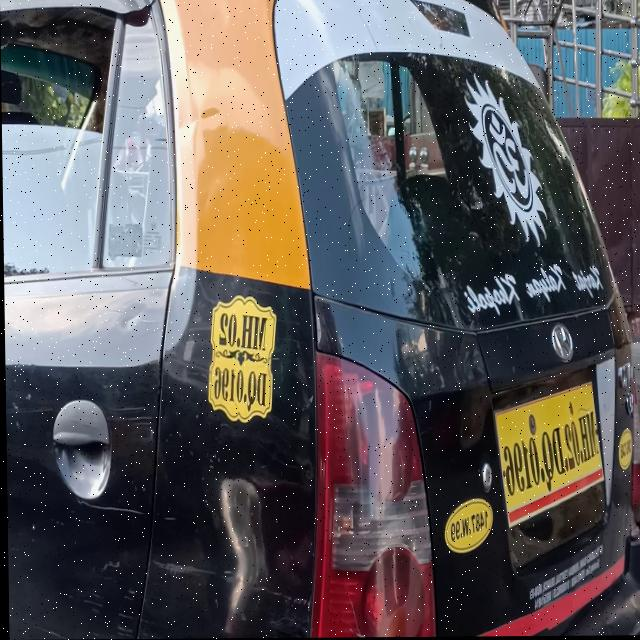plate: (491, 375, 605, 532), (204, 287, 275, 429)
